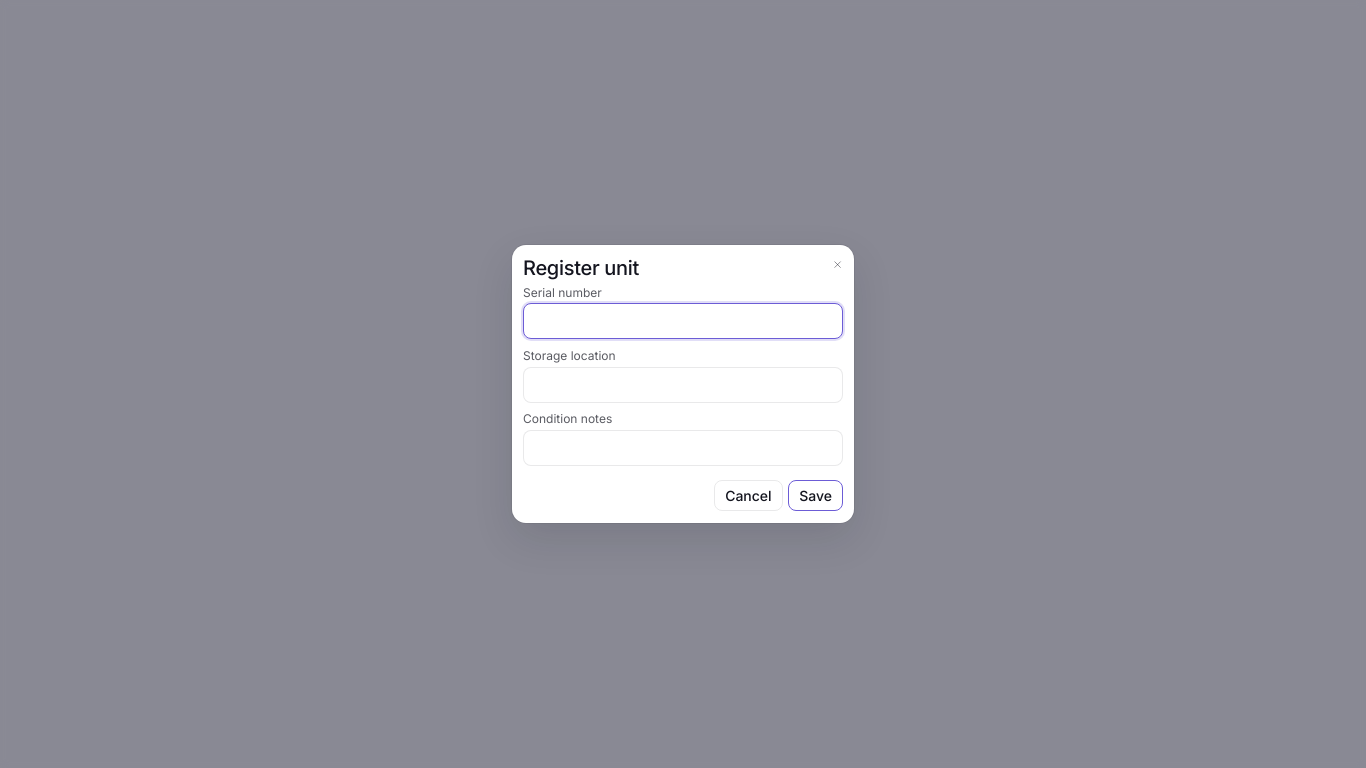
Test case: RegisterUnitDialog › requires a serial number before submitting
Click the button "Save".
click(816, 496)  # box [788,480,843,511]
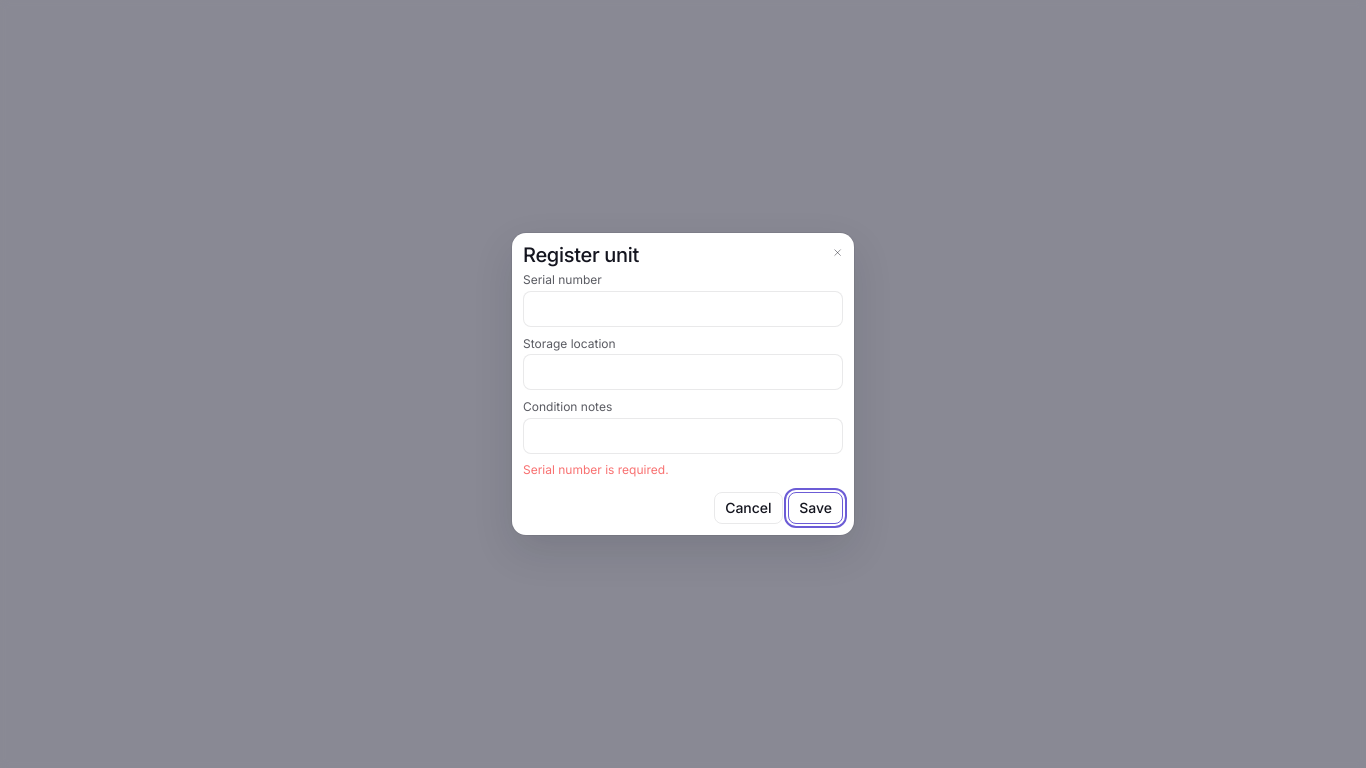
Expected: the text "Serial number is required." is shown, [523,462,669,477]
